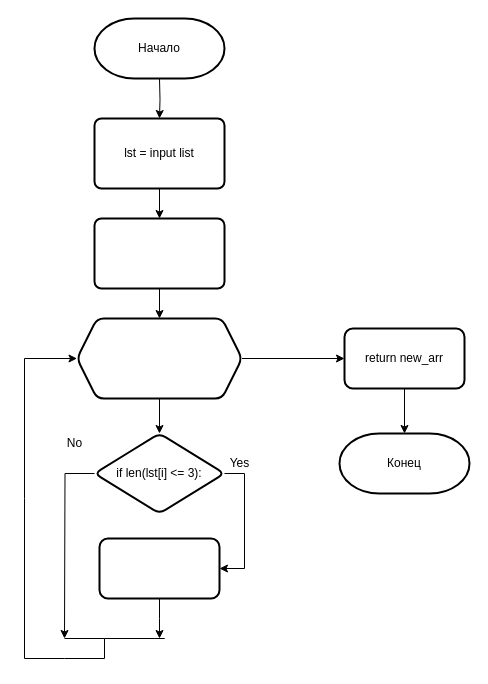
The diagram is 488 pixels wide and 684 high, and some of its shapes have lost their labels. The centre of each missing label's shape, as x and y in pixels:
"for i in range(len(lst)):" belongs at [159,358].
"new_arr = []" belongs at [159,253].
"new_arr.append(lst[i])" belongs at [159,568].
